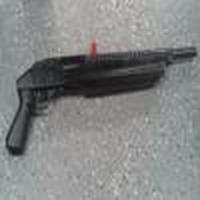gun: (10, 43, 193, 164)
